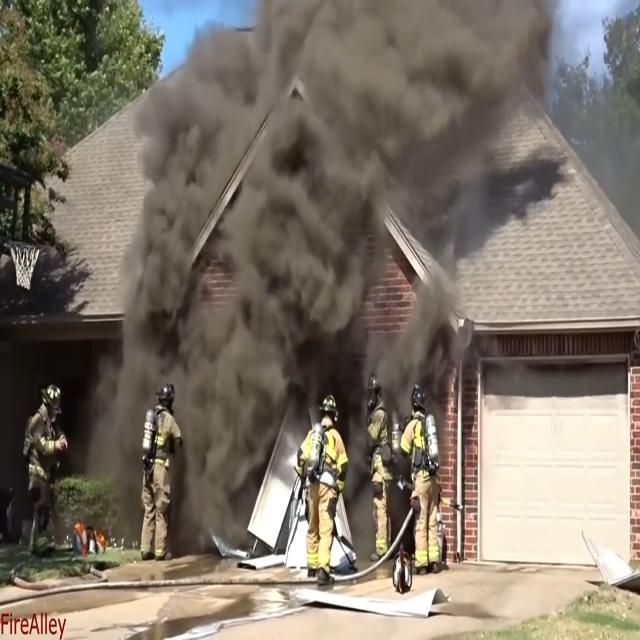Smoke: (148, 20, 543, 387)
